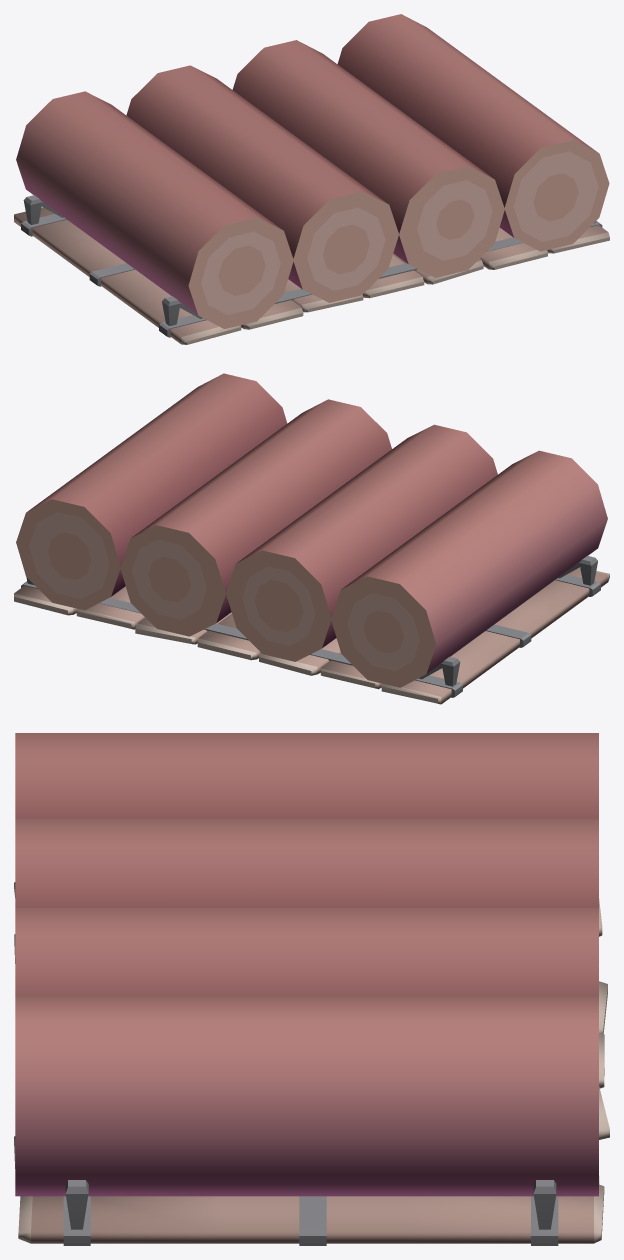
File: obstacle-log_platform_H1W3.glb
3 views of the same model, one above another, from view 1: azimuth 30°, elevation 25°; view 2: azimuth 150°, elevation 25°; view 3: azimuth 270°, elevation 25° (orthographic). The views are drawn at different scales.
Visible parts, largest first — view 1: obstacle-log_platform_H1W3; view 2: obstacle-log_platform_H1W3; view 3: obstacle-log_platform_H1W3.
Boxes of the visible parts, x1,y1,x2,y2 form: obstacle-log_platform_H1W3: (14, 14, 609, 344); obstacle-log_platform_H1W3: (14, 373, 609, 704); obstacle-log_platform_H1W3: (14, 733, 609, 1245).
Bounding box in the file's own units: 8.75 × 2.17 × 6.13.
